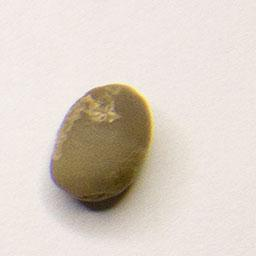peaberry: (45, 78, 156, 203)
